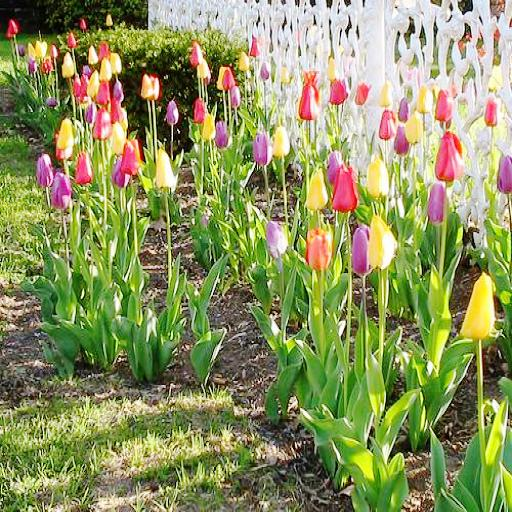tulip: (460, 270, 496, 340), (435, 128, 464, 183), (369, 217, 397, 269), (331, 162, 359, 212), (303, 227, 335, 266), (153, 142, 177, 191), (367, 150, 391, 197), (304, 167, 328, 210), (298, 75, 320, 119), (494, 153, 512, 196), (252, 131, 271, 167)
